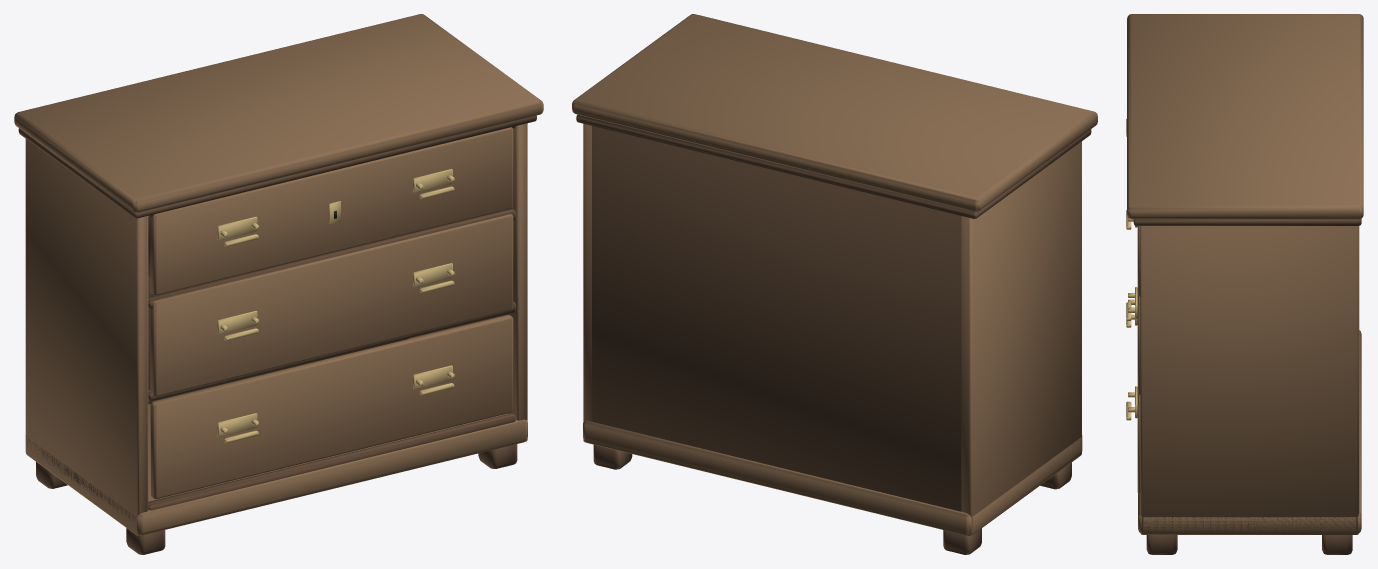
File: drawers.glb
3 renders of one model, left to right at view 1: azimuth 30°, elevation 25°; view 2: azimuth 150°, elevation 25°; view 3: azimuth 270°, elevation 25°, orthographic. The views are drawn at different scales.
Visible parts, largest first — view 1: drawers_mesh, drawer_mesh; view 2: drawers_mesh; view 3: drawers_mesh, drawer_mesh.
Part boxes in pixels (box(x1,y1,x2,y2)): drawers_mesh: box(14, 14, 543, 554); drawer_mesh: box(148, 127, 513, 295); drawers_mesh: box(572, 14, 1097, 554); drawers_mesh: box(1126, 14, 1363, 554); drawer_mesh: box(1126, 119, 1140, 296).
Bounding box in the file's own units: 1.05 × 0.9 × 0.542.
